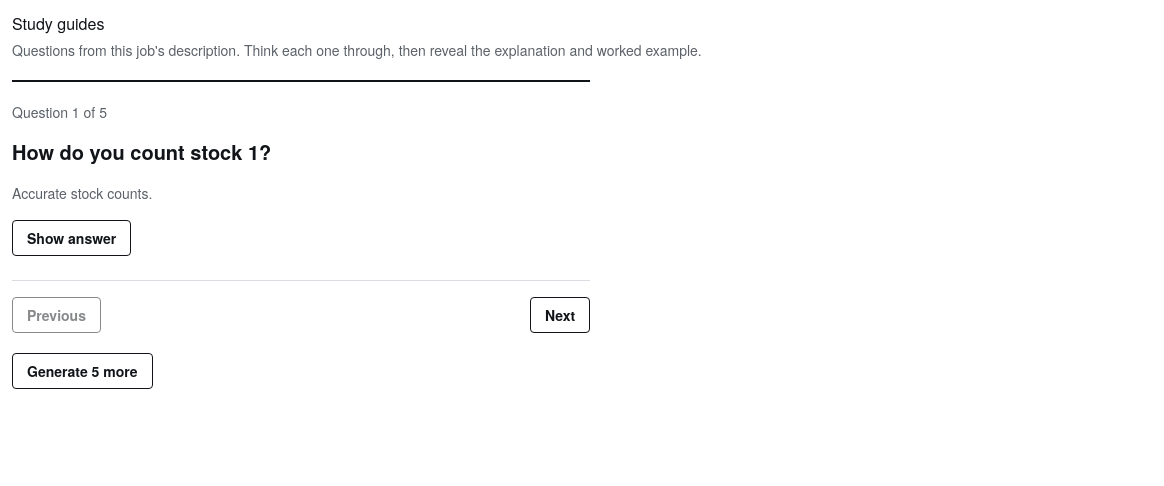
shows a server generation-limit error without losing saved questions
Expected: the heading "How do you count stock 1?" is shown, top-left (12, 137), bottom-right (271, 166)
Step 1. Click the button "Generate 5 more" → (82, 371), box top-left (12, 353), bottom-right (153, 389)
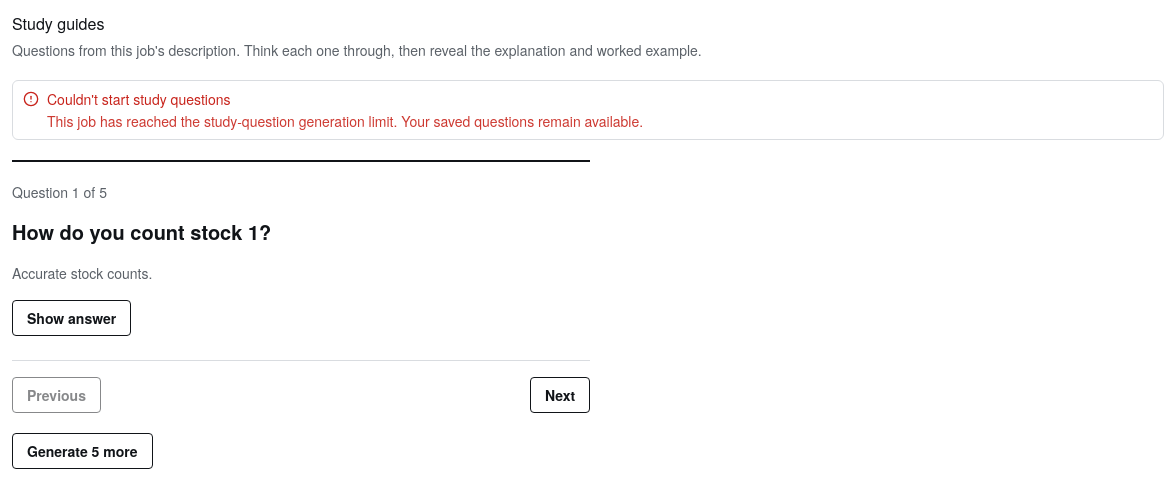
Expected: the heading "How do you count stock 1?" is shown, top-left (12, 217), bottom-right (271, 246)
Expected: the text "This job has reached the study-question generation limit" is shown, top-left (47, 111), bottom-right (643, 131)
